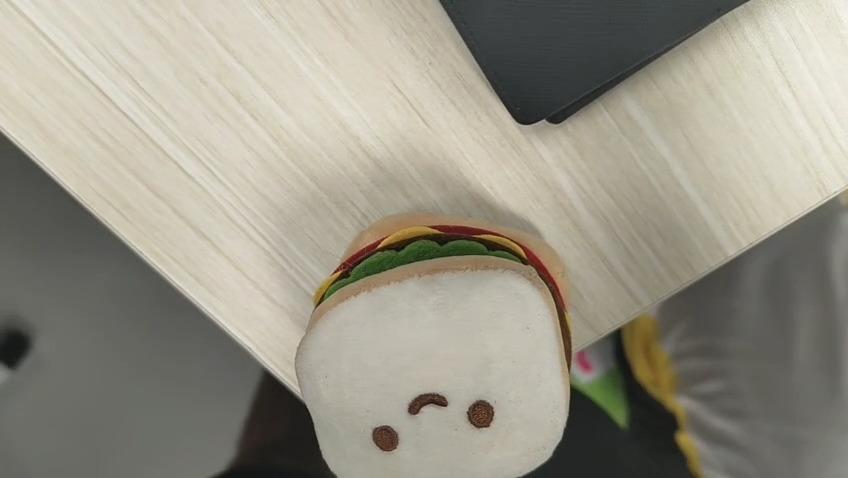objects: (292, 209, 572, 478)
